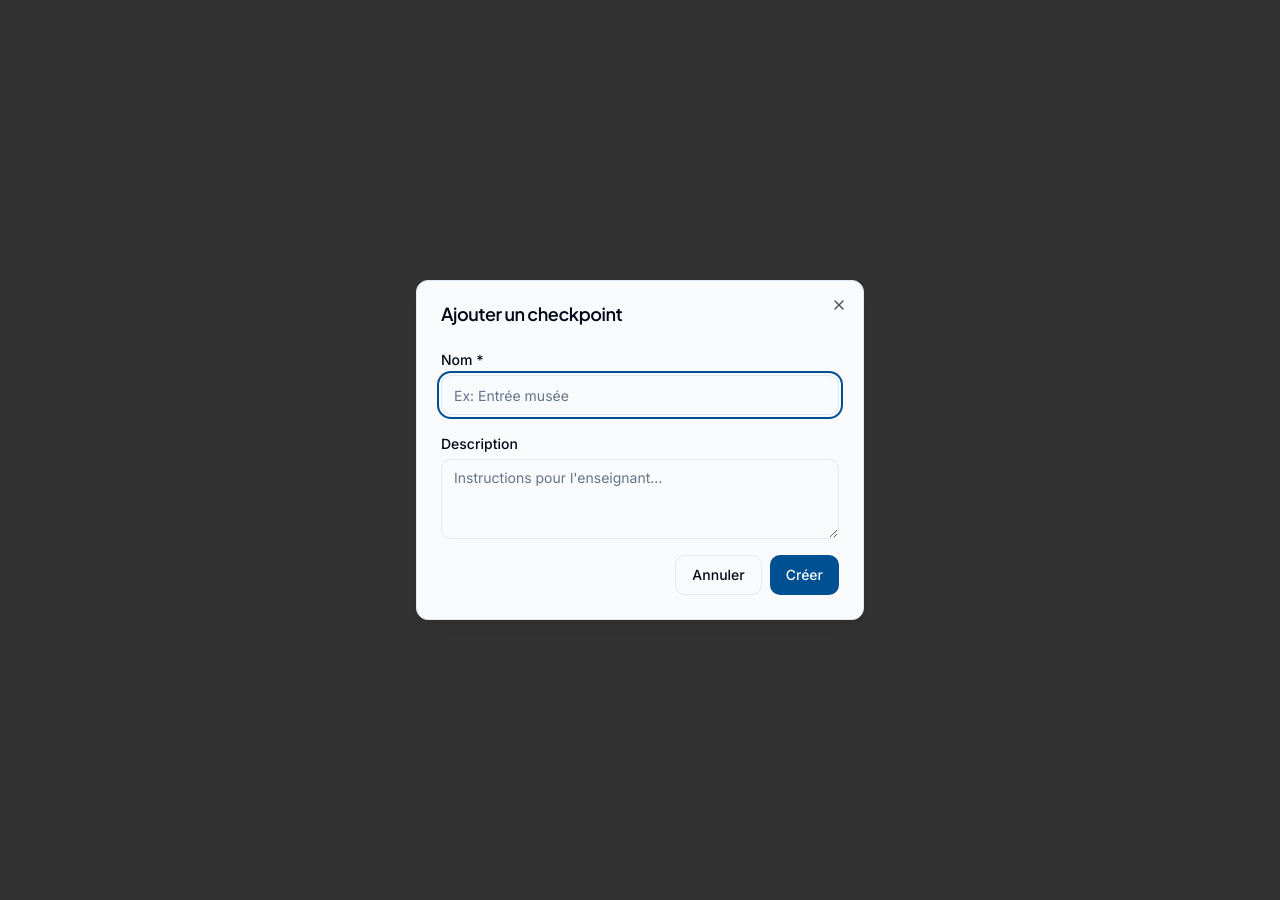
Scenario: CreateCheckpointDialog › affiche une erreur serveur en cas d'échec
Type "Sortie" into the field labelled "Nom *". click: (640, 395)
box: [441,375,839,415]
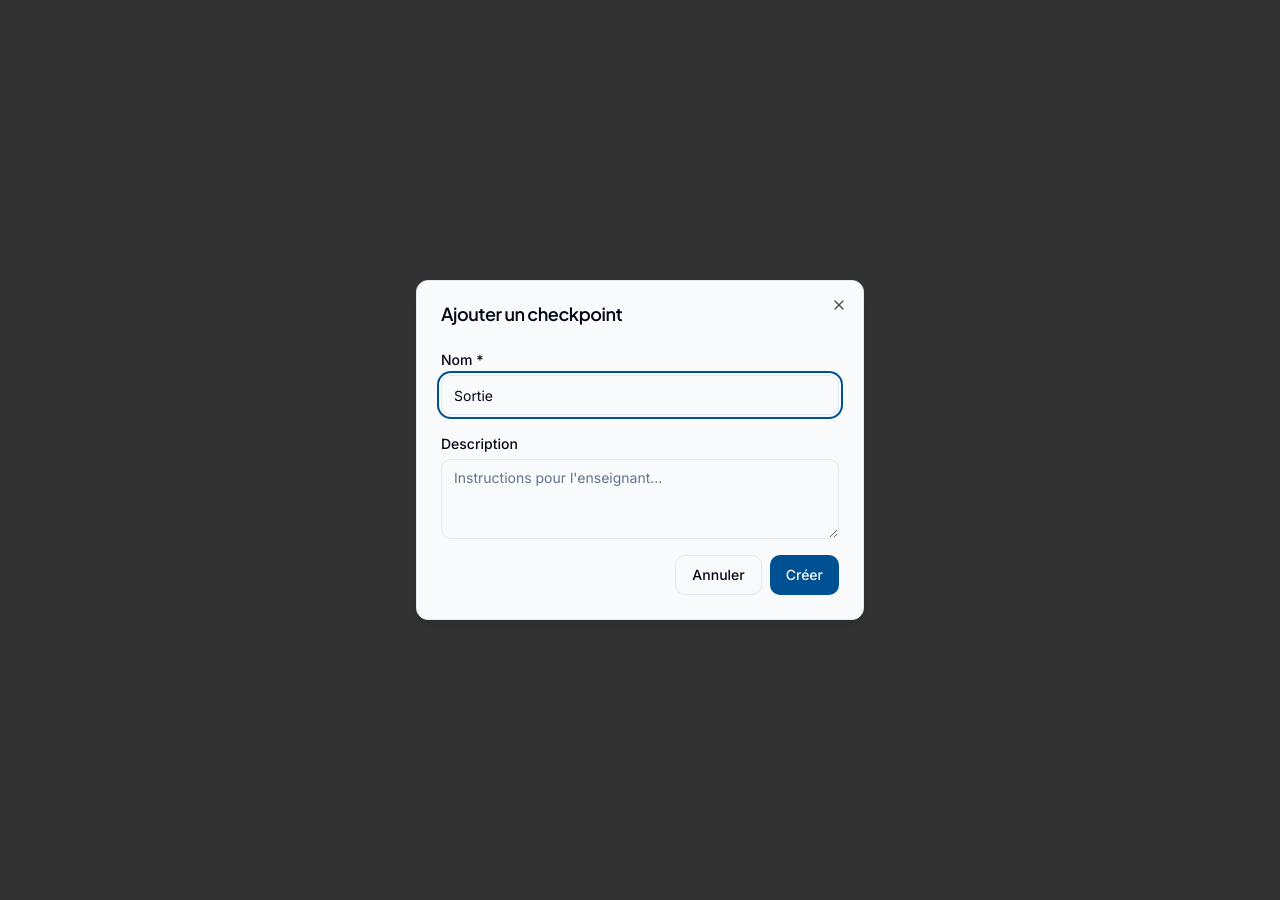
Click the button "Créer". click: (804, 575)
box: [770,555,839,595]
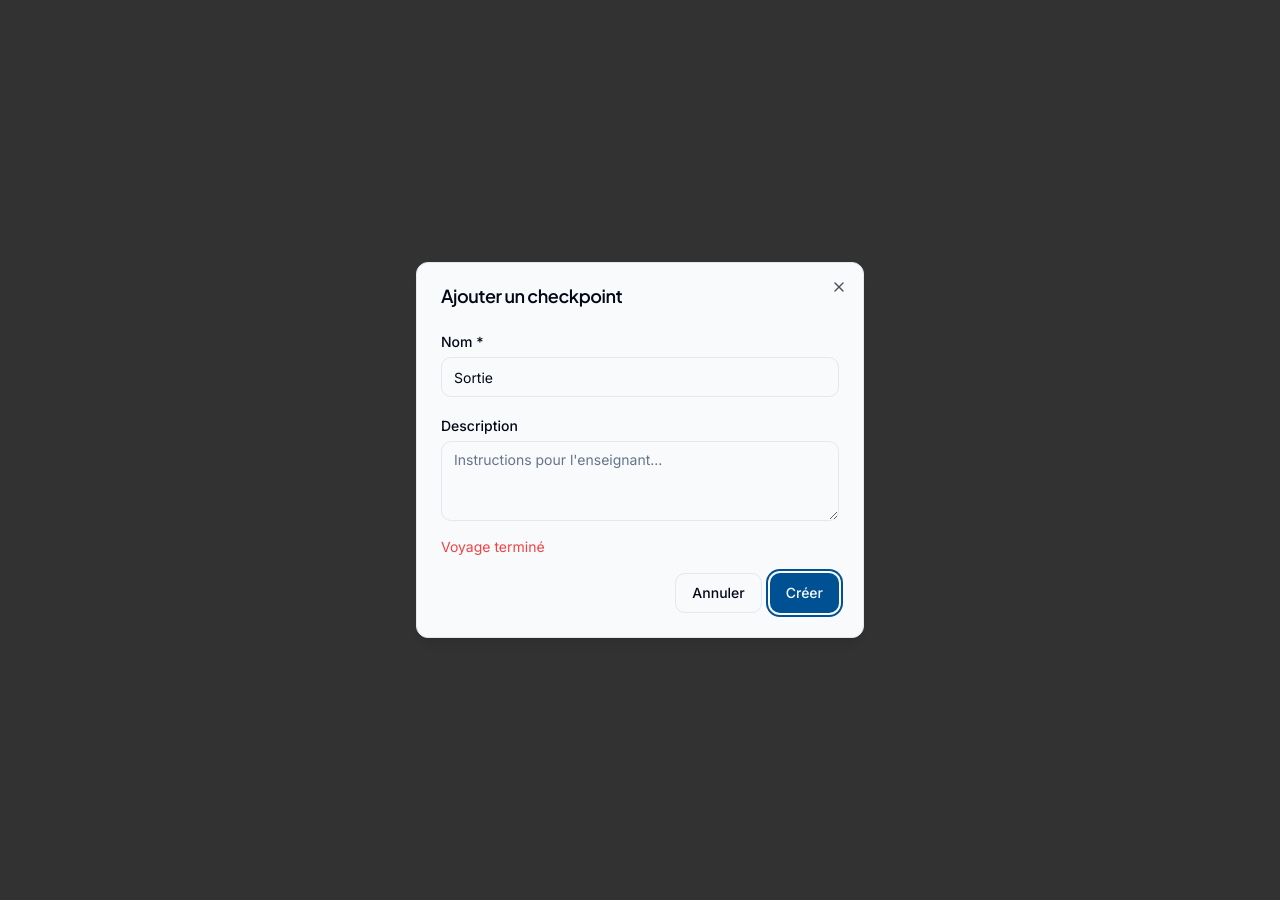
Expected: the text "Voyage terminé" is shown, [441,538,545,555]
